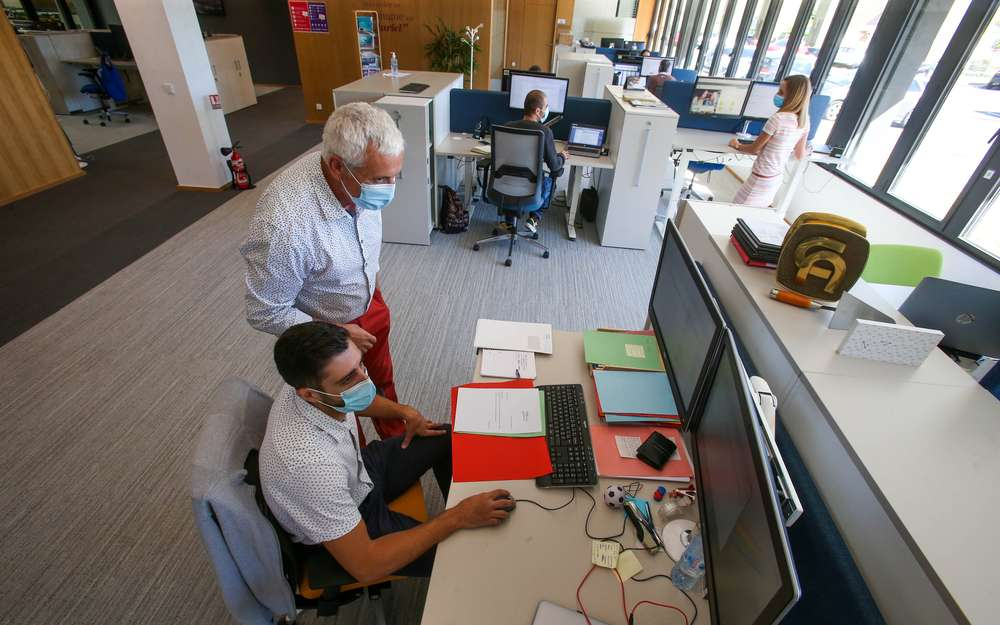with_mask: (318, 338, 381, 414), (350, 142, 405, 213), (770, 75, 798, 110)
